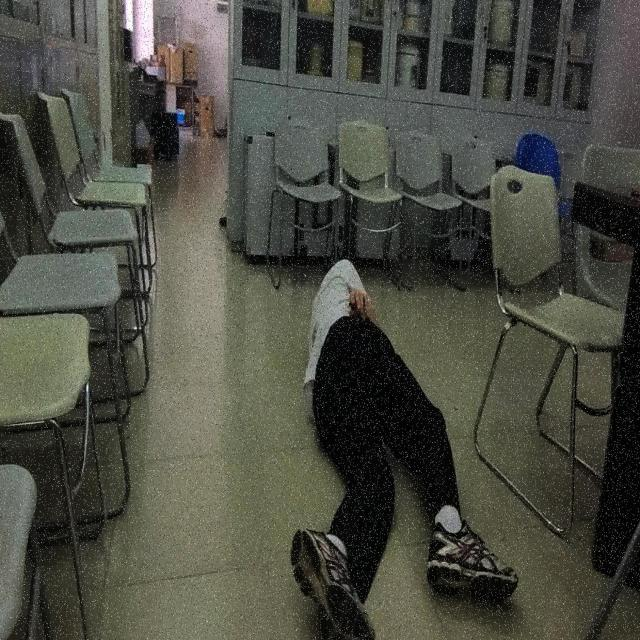fall: (287, 259, 520, 639)
